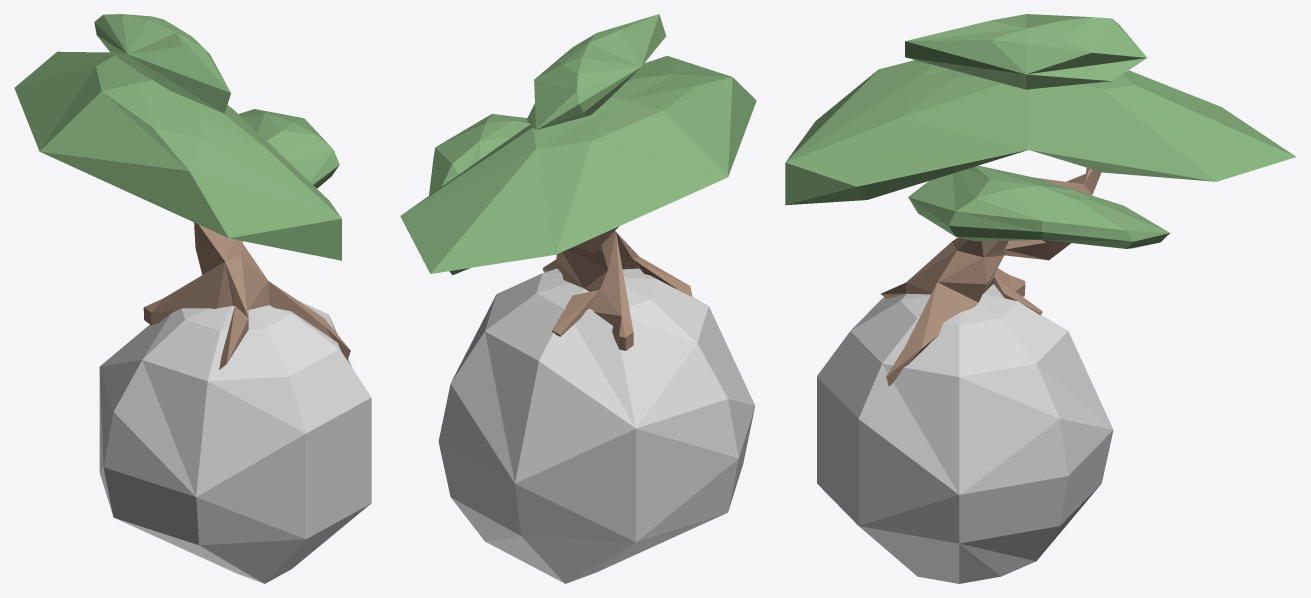
The model's file is Tree01Decimated.fbx.
The picture shows the model from 3 angles, left to right: view 1: azimuth 30°, elevation 25°; view 2: azimuth 150°, elevation 25°; view 3: azimuth 270°, elevation 25°; orthographic projection. The views are drawn at different scales.
Parts seen in each view (by area): view 1: pSphere5; view 2: pSphere5; view 3: pSphere5.
Boxes of the visible parts, <box> form: pSphere5: <box>14,14,371,583</box>; pSphere5: <box>400,14,756,583</box>; pSphere5: <box>785,14,1295,583</box>.
Bounding box in the file's own units: 0.986 × 1.7 × 1.48.
